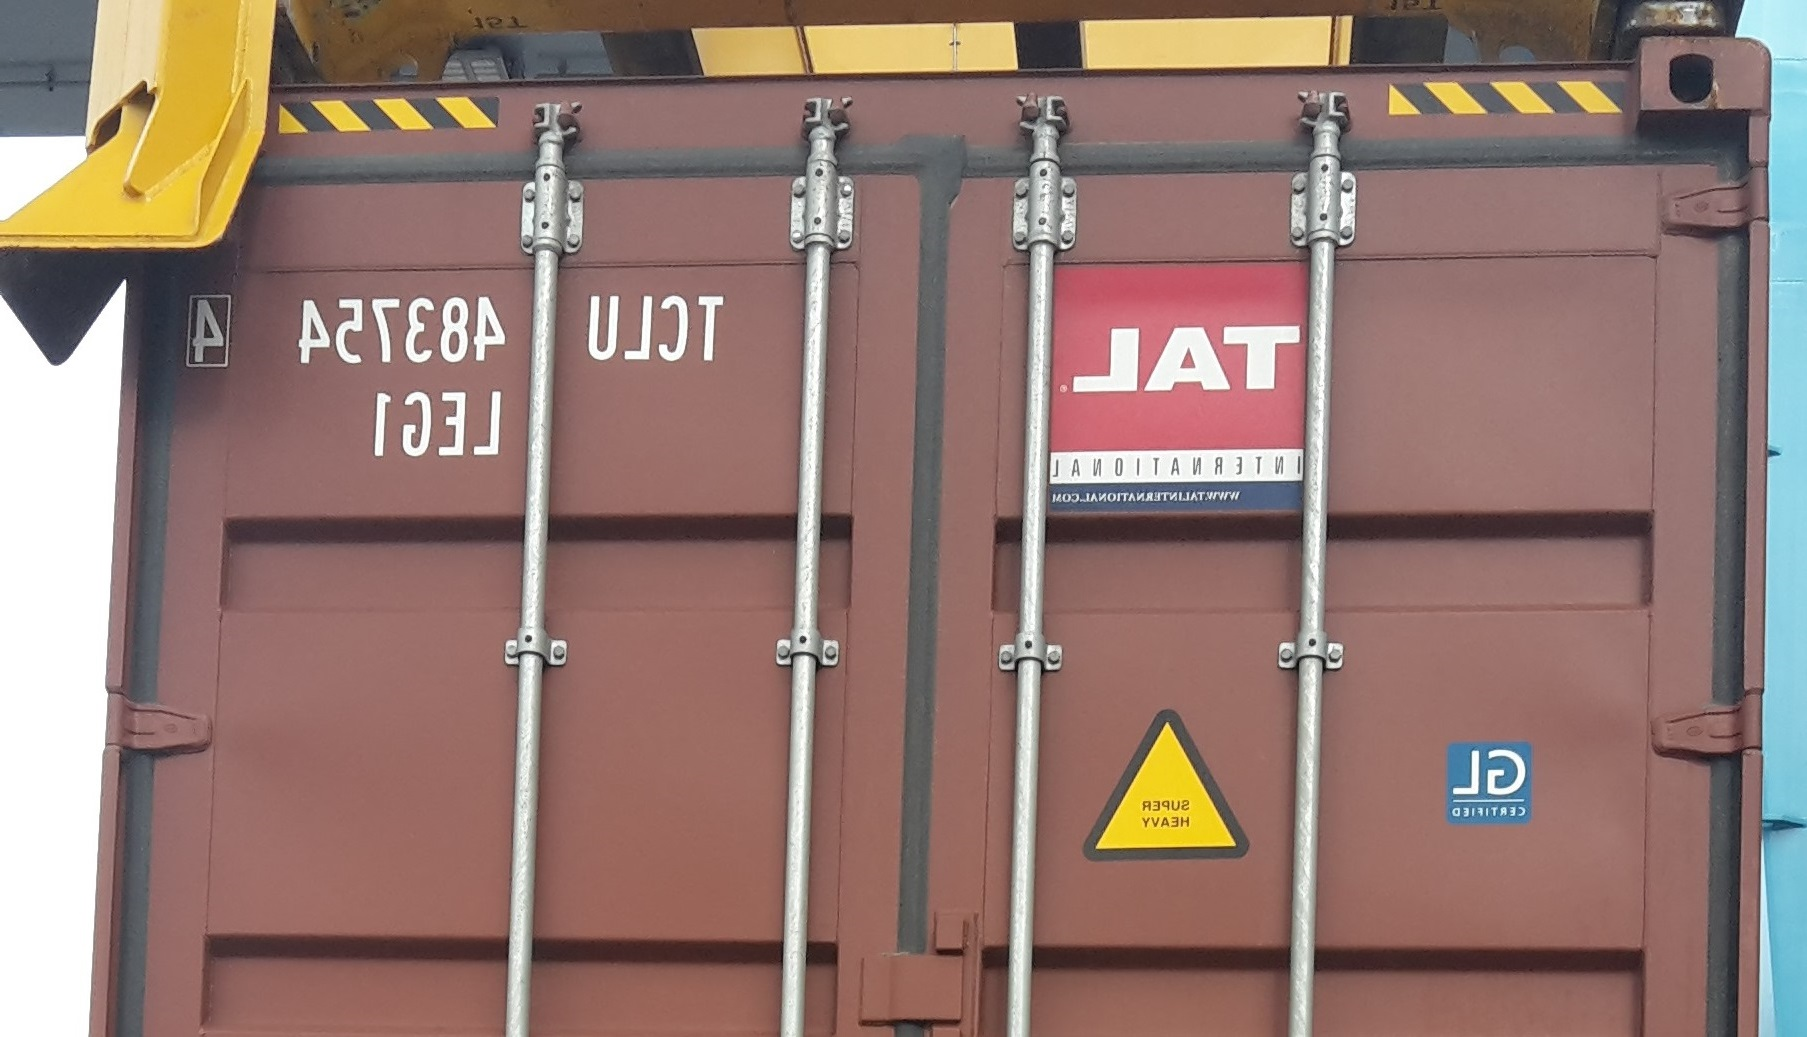container_door: (109, 79, 1766, 1033)
